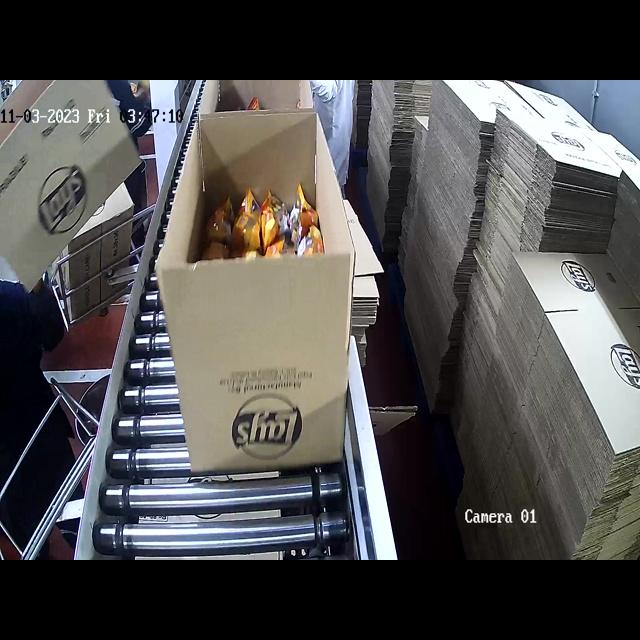cheese: (191, 178, 325, 272)
